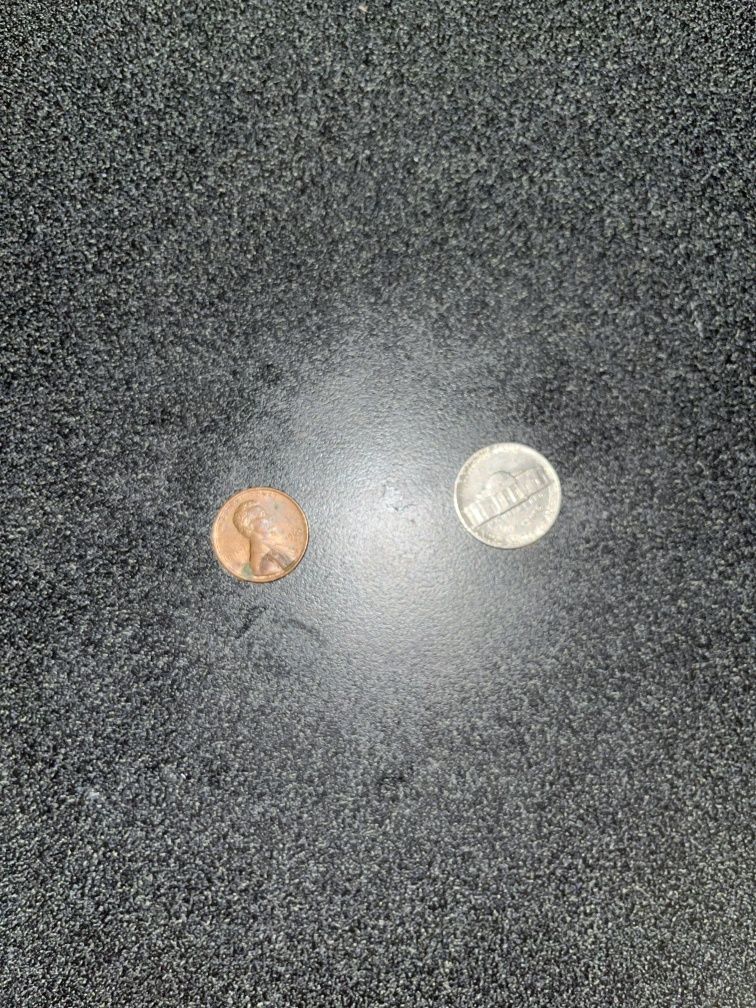nickel: (447, 437, 566, 560)
penny: (209, 483, 312, 592)
